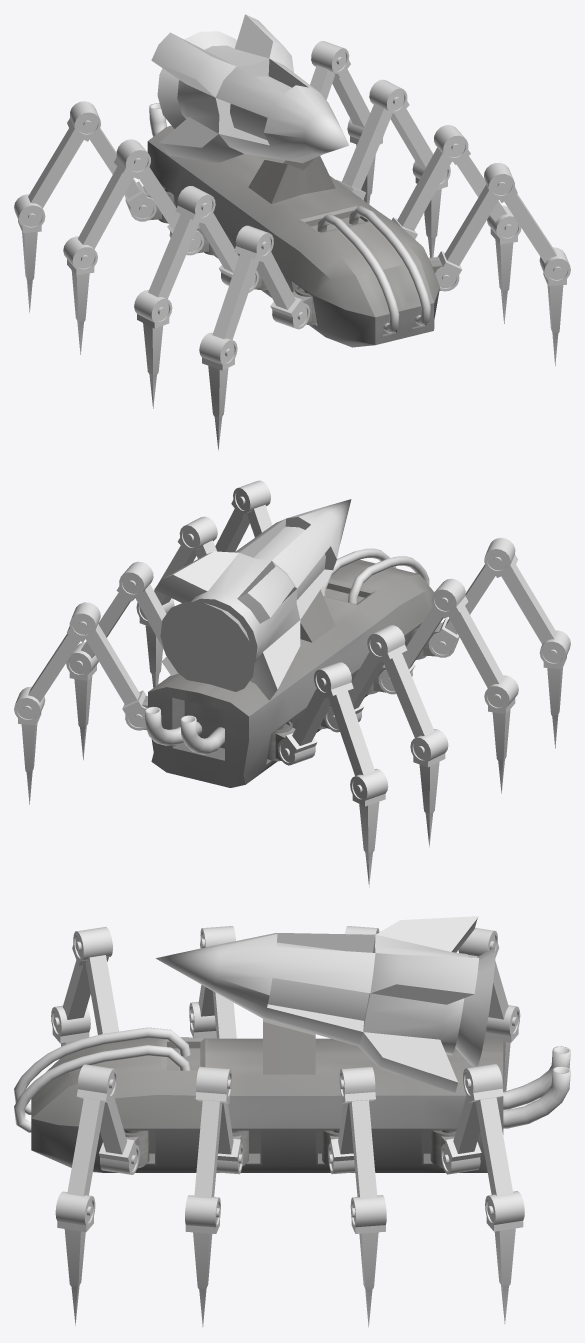
Rendered from SpiderModel.fbx.
The picture shows the model from 3 angles, top to bottom: view 1: azimuth 30°, elevation 25°; view 2: azimuth 150°, elevation 25°; view 3: azimuth 270°, elevation 25°; orthographic projection. The views are drawn at different scales.
Visible parts, largest first — view 1: Cube, Cylinder.149, Cylinder.036, Cylinder.032, Cylinder.040, Cylinder.028, Cylinder.001, Cylinder.010, Cylinder.002, Cylinder.006, Cylinder.033, Cylinder.037 (+15 smaller); view 2: Cylinder.149, Cube, Cylinder.040, Cylinder.028, Cylinder.036, Cylinder.032, Cylinder.005, Cylinder.006, Cylinder.029, Cylinder.041, Cylinder.027, Cylinder.002 (+16 smaller); view 3: Cube, Cylinder.149, Cylinder.002, Cylinder.006, Cylinder.010, Cylinder.014, Cylinder.007, Cylinder.003, Cube.002, Cube.003, Cylinder.011, Cylinder.032 (+16 smaller).
Part boxes in pixels (x1,y1,x2,y2): Cube: (147, 125, 439, 347); Cylinder.149: (151, 14, 348, 163); Cylinder.036: (148, 186, 215, 299); Cylinder.032: (212, 225, 273, 339); Cylinder.040: (78, 139, 150, 249); Cylinder.028: (28, 101, 100, 208); Cylinder.001: (434, 184, 498, 291); Cylinder.010: (369, 79, 433, 168); Cylinder.002: (484, 162, 556, 262); Cylinder.006: (311, 41, 370, 127); Cylinder.033: (199, 332, 237, 450); Cylinder.037: (134, 290, 172, 408); Cylinder.149: (154, 499, 351, 699); Cube: (148, 559, 433, 787); Cylinder.040: (367, 625, 434, 737); Cylinder.028: (314, 662, 374, 775); Cylinder.036: (431, 578, 504, 688); Cylinder.032: (484, 537, 556, 644); Cylinder.005: (86, 624, 146, 730); Cylinder.006: (28, 602, 100, 702); Cylinder.029: (350, 768, 388, 887); Cylinder.041: (410, 729, 448, 847); Cylinder.027: (277, 688, 330, 765); Cylinder.002: (215, 480, 270, 552); Cube: (31, 1019, 503, 1172); Cylinder.149: (156, 916, 495, 1092); Cylinder.002: (67, 1064, 117, 1196); Cylinder.006: (463, 1064, 512, 1195); Cylinder.010: (339, 1066, 377, 1198); Cylinder.014: (194, 1066, 231, 1198); Cylinder.007: (485, 1191, 524, 1323); Cylinder.003: (55, 1191, 95, 1325); Cube.002: (14, 1045, 190, 1132); Cube.003: (14, 1027, 190, 1114); Cylinder.011: (350, 1195, 386, 1327); Cylinder.032: (62, 927, 112, 1019).
Bounding box in the file's own units: 269 × 177 × 301.
